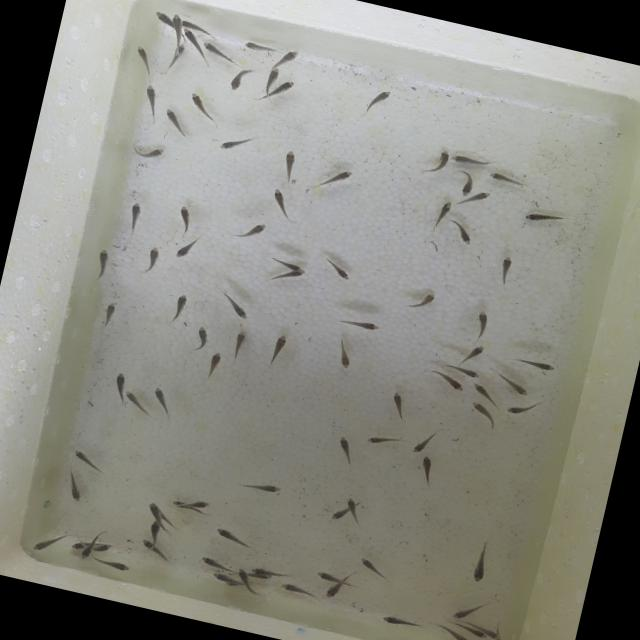fingerling: (463, 542, 496, 586), (486, 367, 532, 398), (510, 352, 563, 378), (406, 427, 443, 459), (262, 330, 291, 370), (90, 297, 125, 330), (421, 369, 467, 394), (334, 313, 384, 336), (66, 446, 107, 474), (320, 162, 358, 192), (349, 551, 388, 580), (448, 596, 486, 625), (214, 128, 253, 156), (485, 168, 530, 192), (216, 294, 254, 322), (521, 204, 565, 228), (310, 568, 358, 590), (317, 254, 356, 281), (447, 150, 492, 173), (184, 88, 216, 120), (325, 341, 356, 374), (26, 524, 60, 554), (276, 580, 322, 602), (502, 398, 544, 422), (173, 232, 204, 264), (264, 76, 298, 105), (199, 42, 240, 66), (362, 430, 404, 453), (63, 472, 89, 509), (264, 185, 296, 215), (426, 146, 454, 180), (238, 217, 272, 245), (126, 41, 156, 72), (463, 308, 494, 338), (147, 381, 176, 413), (330, 431, 358, 464), (382, 384, 412, 414), (126, 141, 165, 164), (120, 386, 152, 414), (138, 82, 164, 116), (242, 478, 282, 500), (200, 348, 223, 386), (364, 86, 394, 115), (171, 204, 200, 234), (459, 398, 495, 422), (276, 144, 302, 177), (206, 523, 248, 543), (89, 246, 115, 278), (228, 326, 252, 360), (222, 66, 250, 95), (467, 380, 498, 406), (164, 497, 208, 515), (430, 199, 455, 230), (452, 341, 483, 366), (272, 46, 304, 70), (138, 244, 162, 276), (138, 538, 170, 562), (378, 613, 418, 632), (158, 107, 187, 133), (462, 185, 492, 210), (188, 321, 210, 355), (167, 293, 189, 327), (193, 552, 230, 572), (440, 360, 480, 378), (107, 367, 128, 401), (95, 556, 132, 575), (242, 40, 278, 59), (270, 266, 304, 286), (438, 623, 478, 640), (258, 66, 284, 92), (452, 222, 478, 248), (342, 496, 366, 524), (163, 41, 186, 70), (495, 253, 517, 283), (412, 288, 438, 313), (270, 255, 308, 272), (231, 562, 252, 592), (414, 452, 436, 478), (75, 538, 99, 560), (141, 500, 165, 522), (456, 170, 474, 198), (124, 199, 142, 226), (167, 14, 187, 38), (248, 565, 282, 579), (458, 624, 489, 638), (180, 20, 210, 34), (472, 621, 498, 637), (208, 570, 237, 584), (181, 28, 199, 50), (150, 7, 172, 25), (185, 496, 214, 509), (328, 505, 347, 523), (146, 520, 162, 538), (486, 627, 508, 640), (322, 586, 342, 600)
